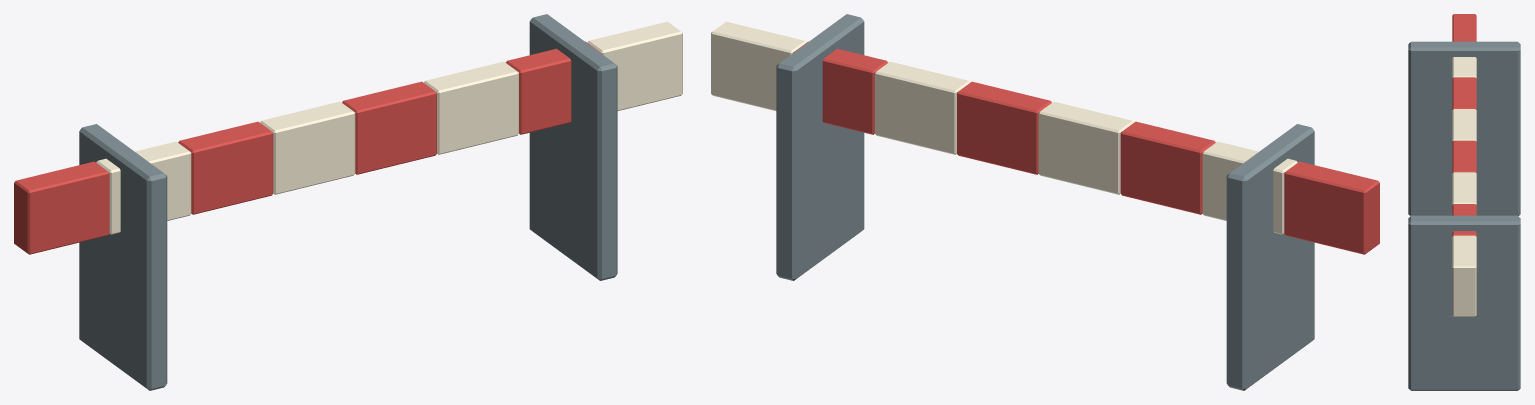
Rendered from Road_PoliceBarricade.fbx.
3 views of the same model, side by side, from view 1: azimuth 30°, elevation 25°; view 2: azimuth 150°, elevation 25°; view 3: azimuth 270°, elevation 25° (orthographic). The views are drawn at different scales.
Visible parts, largest first — view 1: Leg.014, Leg.015, Stripe.009, Stripe.012, Stripe.011, Stripe.014, Stripe.013, Stripe.016, Stripe.015, Stripe.010; view 2: Leg.014, Leg.015, Stripe.009, Stripe.012, Stripe.011, Stripe.014, Stripe.013, Stripe.016, Stripe.015, Stripe.010; view 3: Leg.015, Leg.014, Stripe.016, Stripe.013, Stripe.011, Stripe.014, Stripe.012, Stripe.009, Stripe.010, Stripe.015.
Boxes of the visible parts, <box> form: Leg.014: <box>79,124,167,390</box>; Leg.015: <box>529,14,617,280</box>; Stripe.009: <box>14,161,109,254</box>; Stripe.012: <box>260,101,355,194</box>; Stripe.011: <box>178,121,273,214</box>; Stripe.014: <box>424,61,518,154</box>; Stripe.013: <box>342,81,436,174</box>; Stripe.016: <box>587,21,682,110</box>; Stripe.015: <box>505,41,600,134</box>; Stripe.010: <box>96,141,191,234</box>; Leg.014: <box>1226,124,1314,390</box>; Leg.015: <box>776,14,864,280</box>; Stripe.009: <box>1284,161,1379,254</box>; Stripe.012: <box>1038,101,1133,194</box>; Stripe.011: <box>1120,121,1215,214</box>; Stripe.014: <box>875,61,969,154</box>; Stripe.013: <box>957,81,1051,174</box>; Stripe.016: <box>711,21,806,110</box>; Stripe.015: <box>793,41,888,134</box>; Stripe.010: <box>1202,141,1297,234</box>; Leg.015: <box>1408,215,1520,390</box>; Leg.014: <box>1408,41,1520,215</box>; Stripe.016: <box>1452,235,1476,316</box>; Stripe.013: <box>1452,140,1476,172</box>; Stripe.011: <box>1452,77,1476,109</box>; Stripe.014: <box>1452,172,1476,204</box>; Stripe.012: <box>1452,109,1476,141</box>; Stripe.009: <box>1452,14,1476,41</box>; Stripe.010: <box>1452,57,1476,78</box>; Stripe.015: <box>1452,204,1476,236</box>.
Bounding box in the file's own units: 3.2 × 1 × 0.6.
